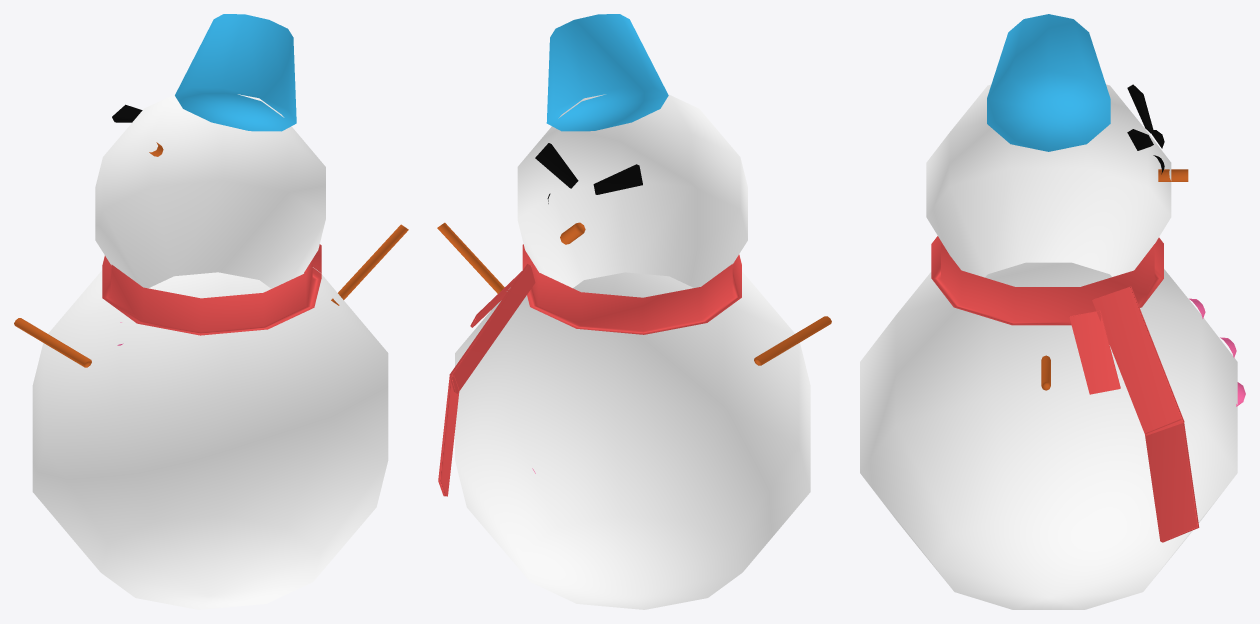
The model's file is ps2_save-icons_yukigatarirenewalban.glb.
3 renders of one model, left to right at view 1: azimuth 30°, elevation 25°; view 2: azimuth 150°, elevation 25°; view 3: azimuth 270°, elevation 25°, orthographic. The views are drawn at different scales.
Visible parts, largest first — view 1: yuki.ico; view 2: yuki.ico; view 3: yuki.ico.
Part boxes in pixels (x1=…): yuki.ico: x1=14, y1=14, x2=408, y2=609; yuki.ico: x1=437, y1=14, x2=831, y2=609; yuki.ico: x1=860, y1=14, x2=1245, y2=609.
Size of the model in its own units: 3.45 by 4.74 by 2.82.
Materials: 1 (1 with a texture image).
